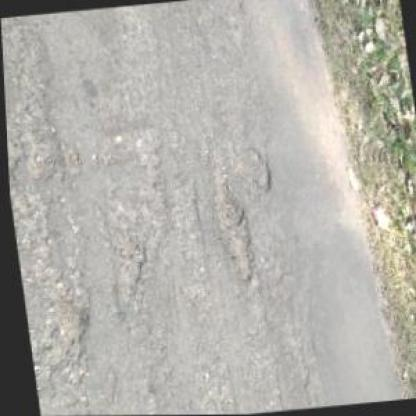pothole: (208, 174, 254, 286), (35, 282, 93, 352), (107, 228, 150, 302), (21, 130, 57, 184), (241, 146, 272, 194)
